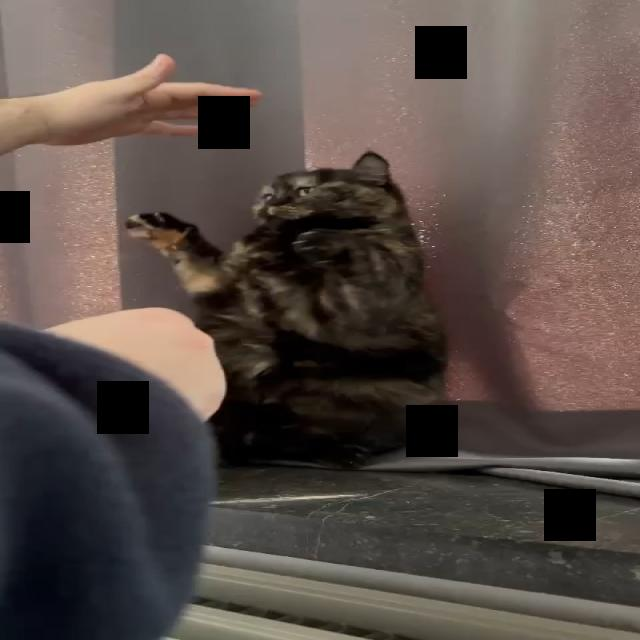authorized: (123, 150, 449, 470)
